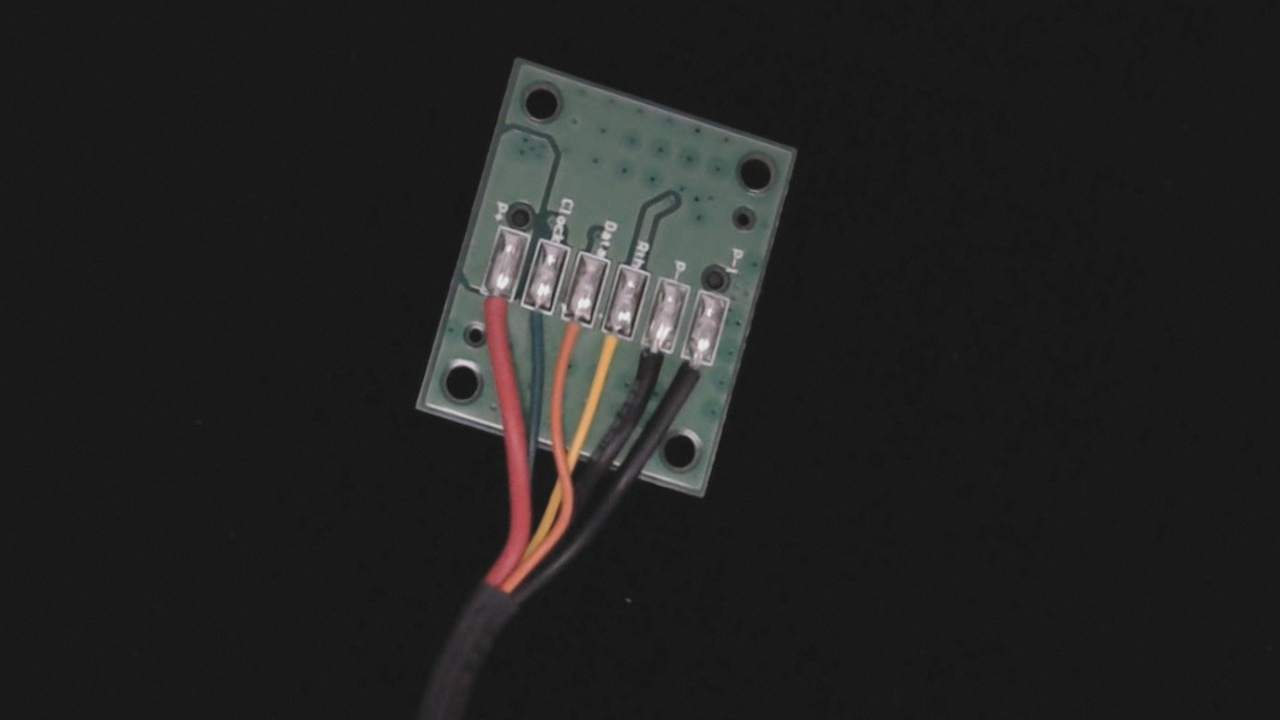Black: (627, 325, 677, 394)
Black1: (665, 339, 716, 416)
Green: (506, 282, 560, 358)
Orange: (543, 297, 597, 378)
Red: (468, 269, 520, 340)
Yellow: (586, 310, 637, 388)
